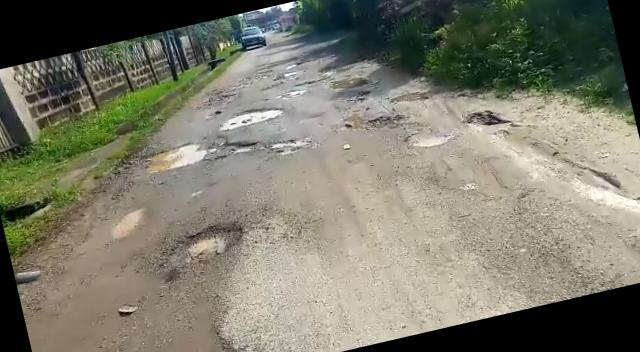pothole: (150, 216, 254, 283), (140, 126, 262, 176), (214, 100, 286, 132), (402, 124, 454, 154), (265, 134, 316, 160)
